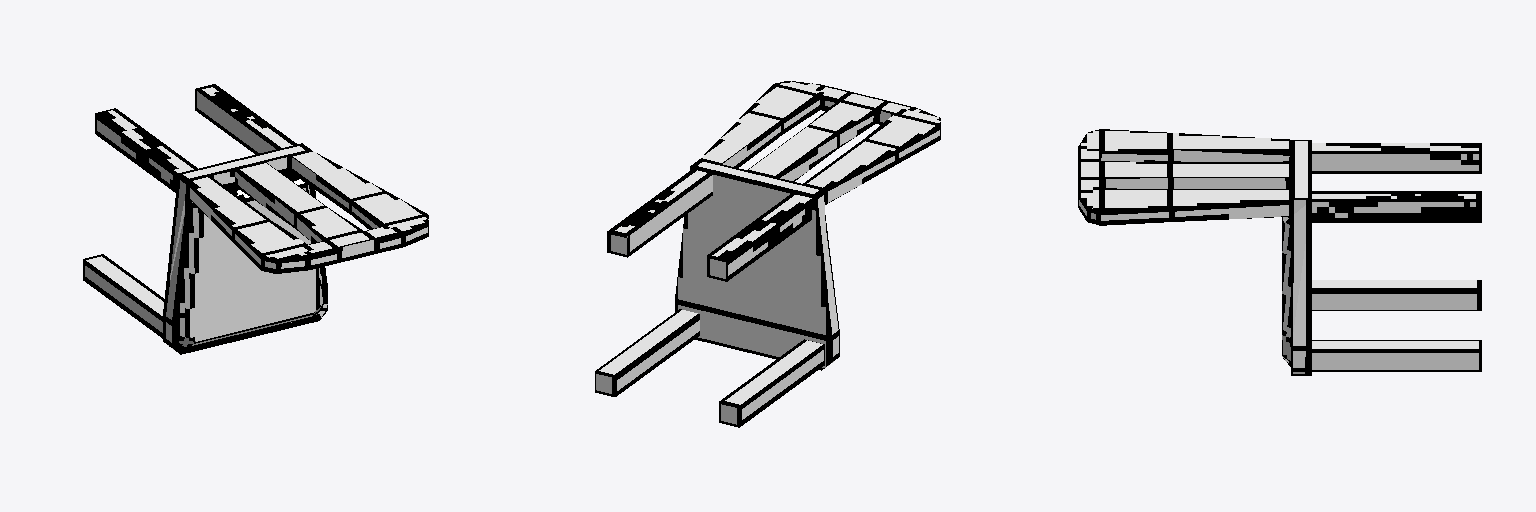
3 renders of one model, left to right at view 1: azimuth 30°, elevation 25°; view 2: azimuth 150°, elevation 25°; view 3: azimuth 270°, elevation 25°, orthographic.
Parts seen in each view (by area): view 1: Cube1; view 2: Cube1; view 3: Cube1.
Boxes of the visible parts, x1=… form: Cube1: x1=83, y1=84, x2=428, y2=354; Cube1: x1=595, y1=81, x2=940, y2=427; Cube1: x1=1078, y1=129, x2=1481, y2=375.
Size of the model in its own units: 2.7 by 2.65 by 5.62.
Materials: 1 (1 with a texture image).